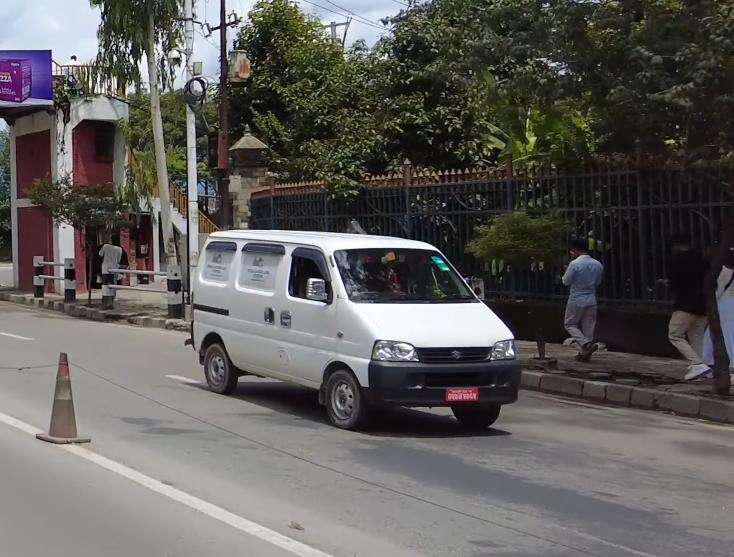van: (186, 222, 538, 440)
